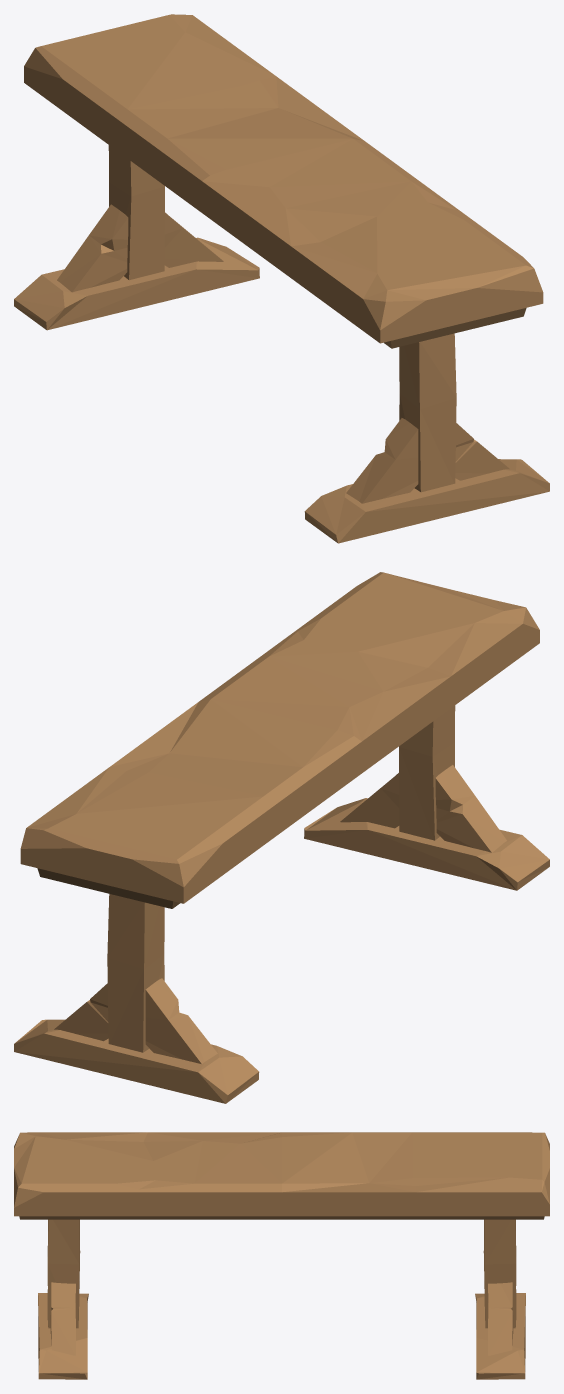
File: SFV_Bench_002.fbx
3 views of the same model, one above another, from view 1: azimuth 30°, elevation 25°; view 2: azimuth 150°, elevation 25°; view 3: azimuth 270°, elevation 25° (orthographic). The views are drawn at different scales.
Parts seen in each view (by area): view 1: SFV_Bench_002; view 2: SFV_Bench_002; view 3: SFV_Bench_002.
Boxes of the visible parts, <box> form: SFV_Bench_002: <box>14,14,549,543</box>; SFV_Bench_002: <box>14,572,549,1103</box>; SFV_Bench_002: <box>14,1132,549,1379</box>.
Bounding box in the file's own units: 45.51 × 48.97 × 130.
